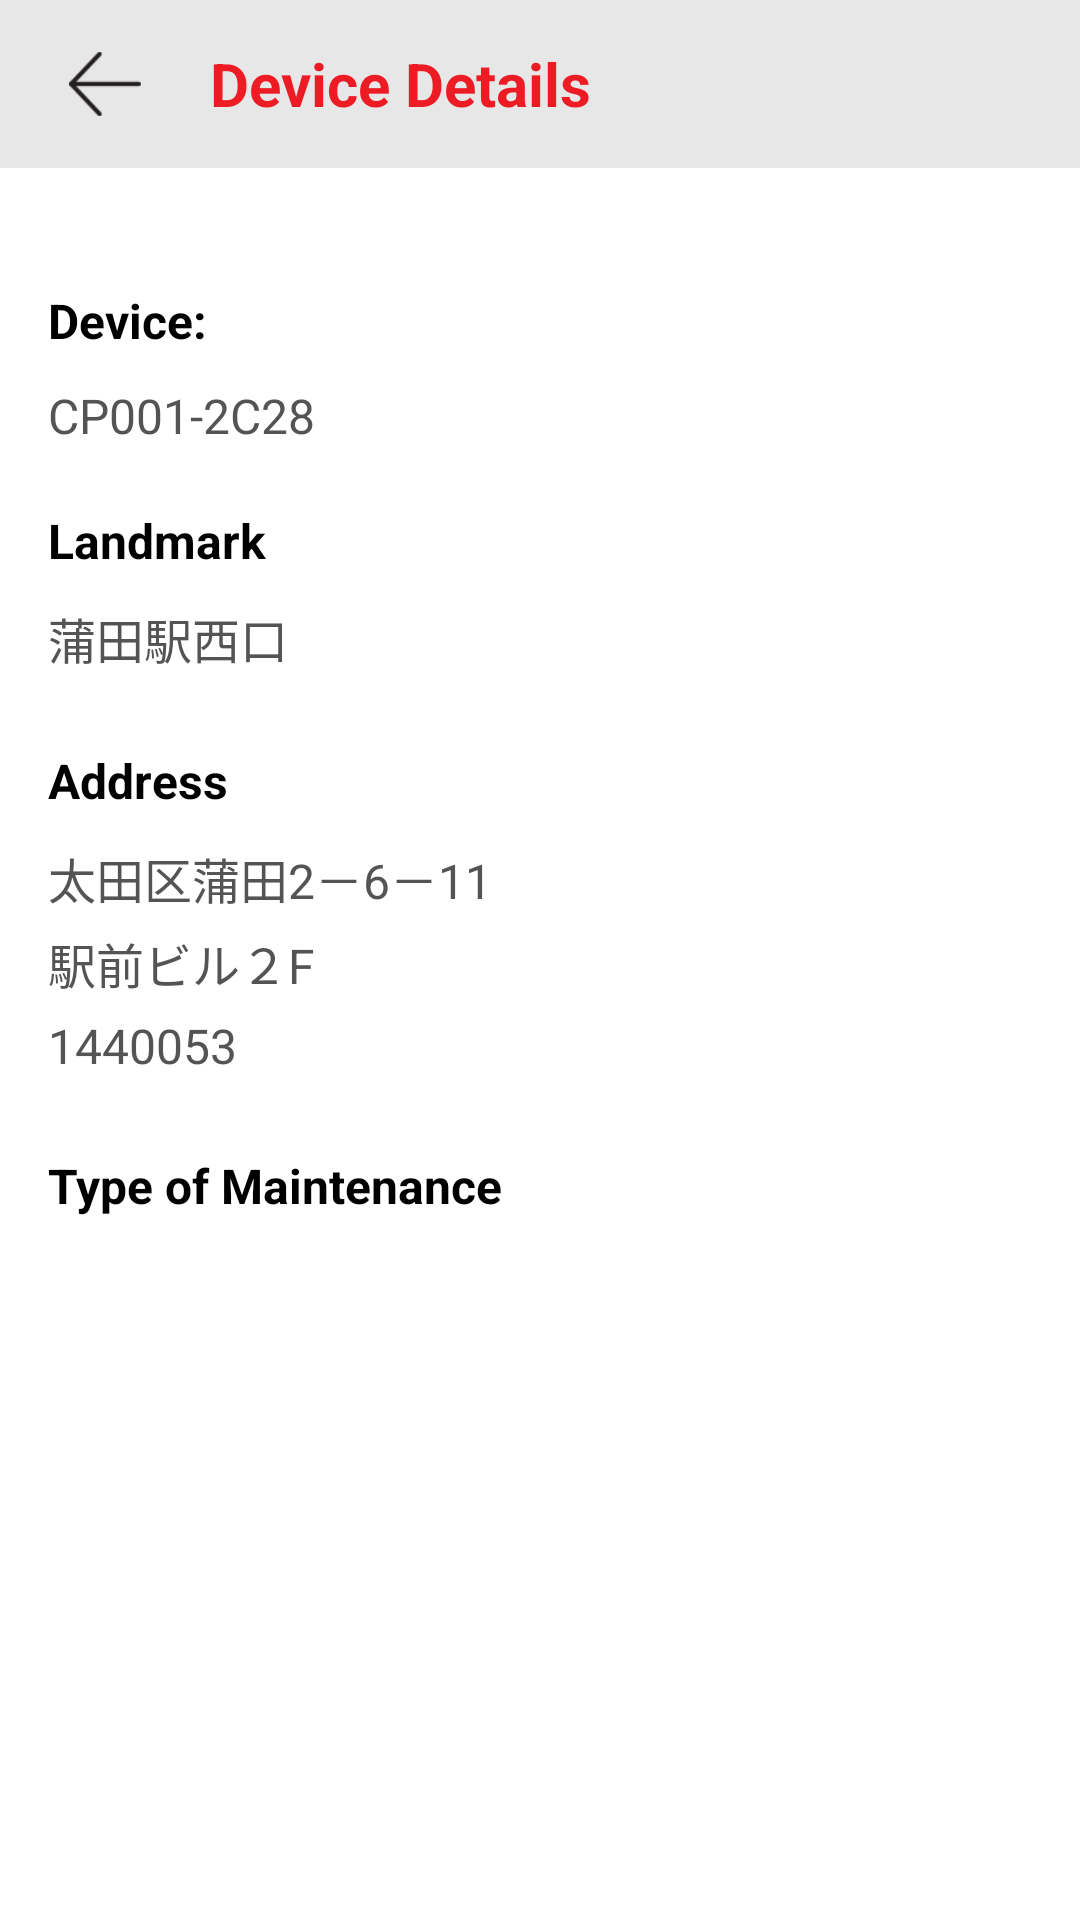

Icons on this 1080*1920 Android screen, each with its box as [x1,y1,x2,y2]:
back: [69,52,141,116]
